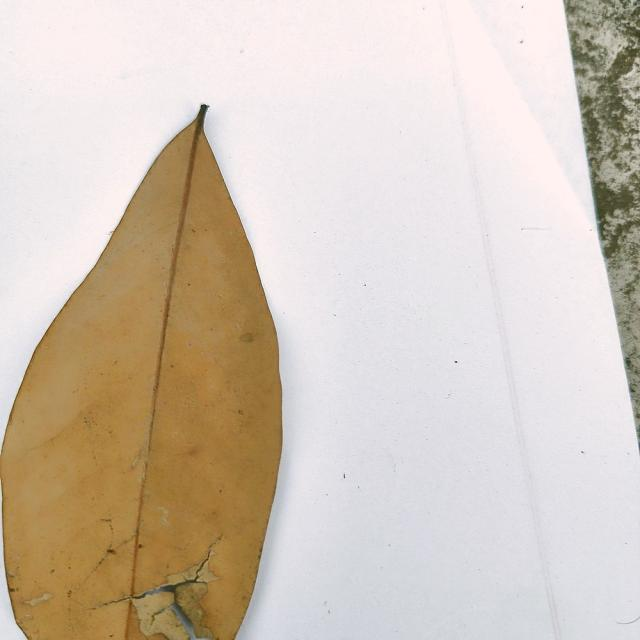Dry_Leaf-Lychee: (0, 108, 284, 639)
